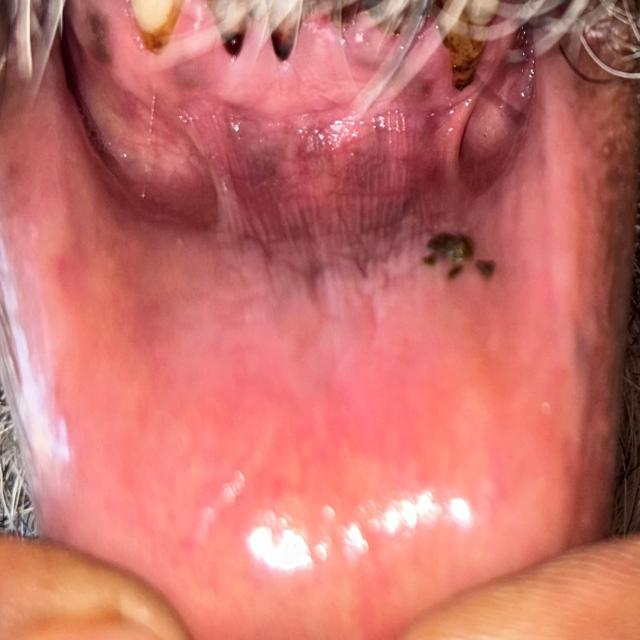leukoplakia-detection: (41, 12, 537, 394)
processing_area: (0, 43, 585, 639)
